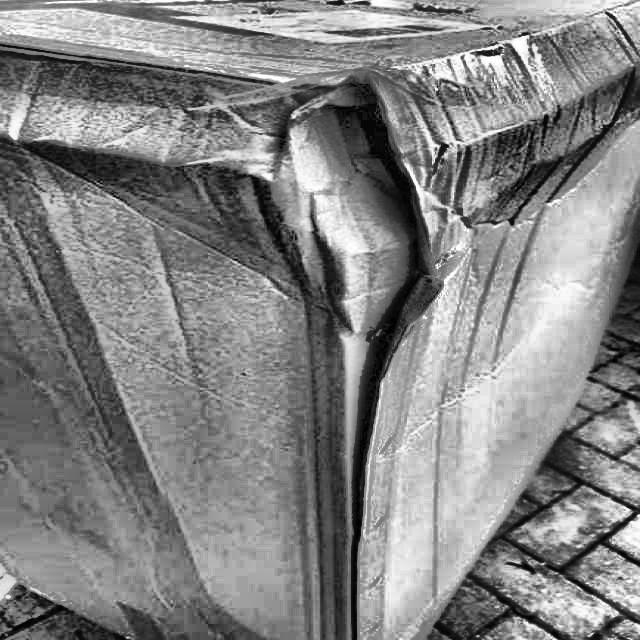box: (0, 0, 640, 640)
hole: (285, 89, 463, 339)
